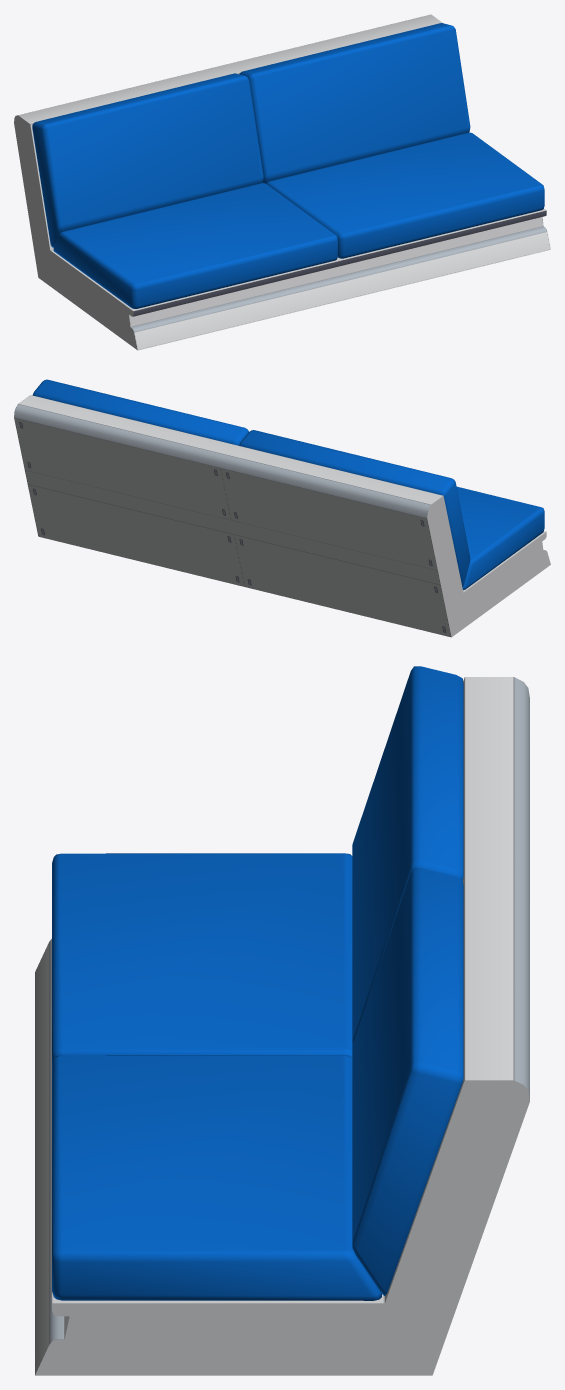
Rendered from Sofa_Line_01.FBX.
The picture shows the model from 3 angles, top to bottom: view 1: azimuth 30°, elevation 25°; view 2: azimuth 150°, elevation 25°; view 3: azimuth 270°, elevation 25°; orthographic projection. The views are drawn at different scales.
Visible parts, largest first — view 1: Sofa_Line_01; view 2: Sofa_Line_01; view 3: Sofa_Line_01.
Boxes of the visible parts, left/top/right/bottom form: Sofa_Line_01: left=14, top=14, right=550, bottom=350; Sofa_Line_01: left=14, top=379, right=550, bottom=637; Sofa_Line_01: left=35, top=666, right=529, bottom=1375.
Bounding box in the file's own units: 3 × 1.07 × 1.56.
Materials: 2 (2 with a texture image).
